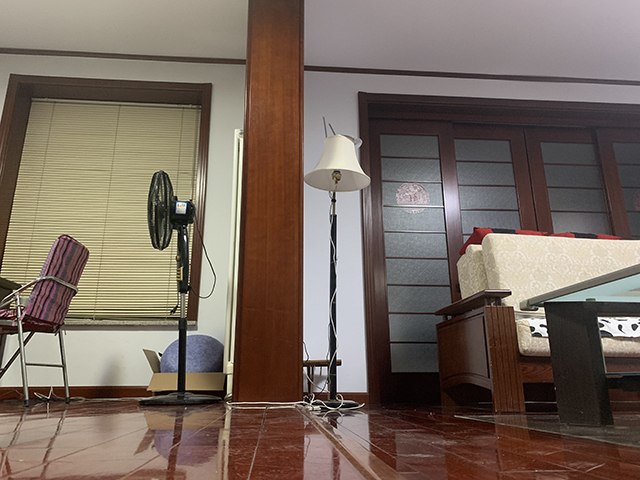sofa: (434, 223, 640, 415)
stool: (1, 230, 94, 402), (303, 359, 343, 399)
wire: (223, 397, 370, 414), (1, 387, 93, 403)
